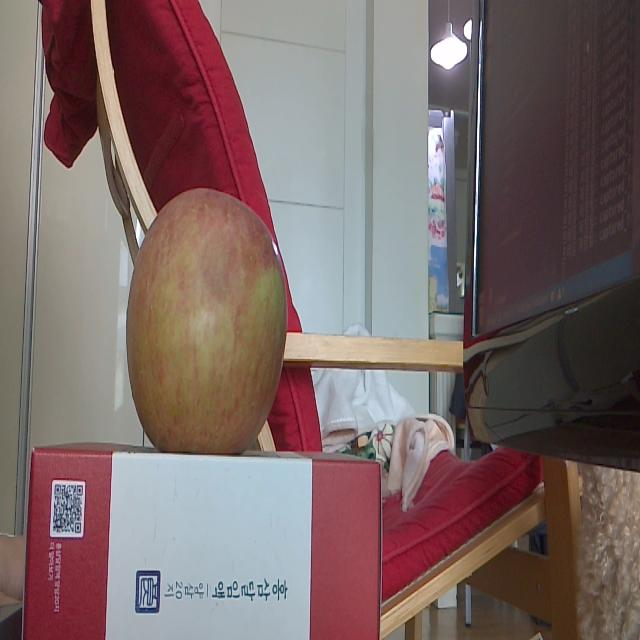apple: (126, 190, 288, 455)
